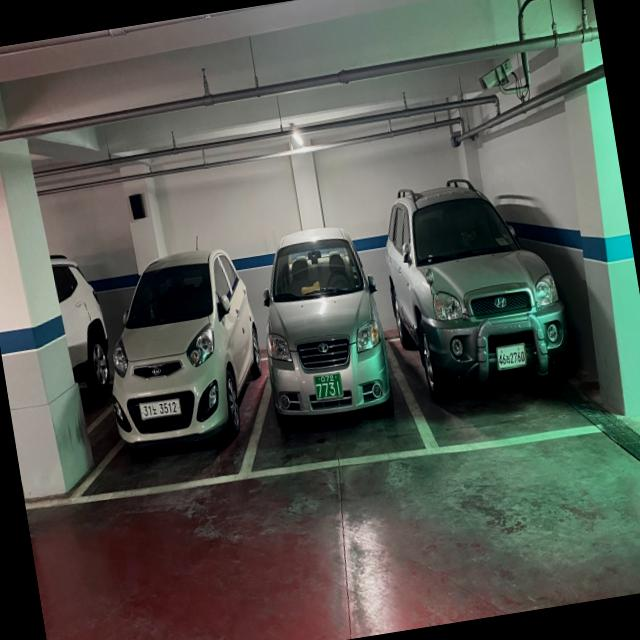car: (373, 162, 591, 432), (94, 241, 256, 458), (244, 224, 398, 434)
